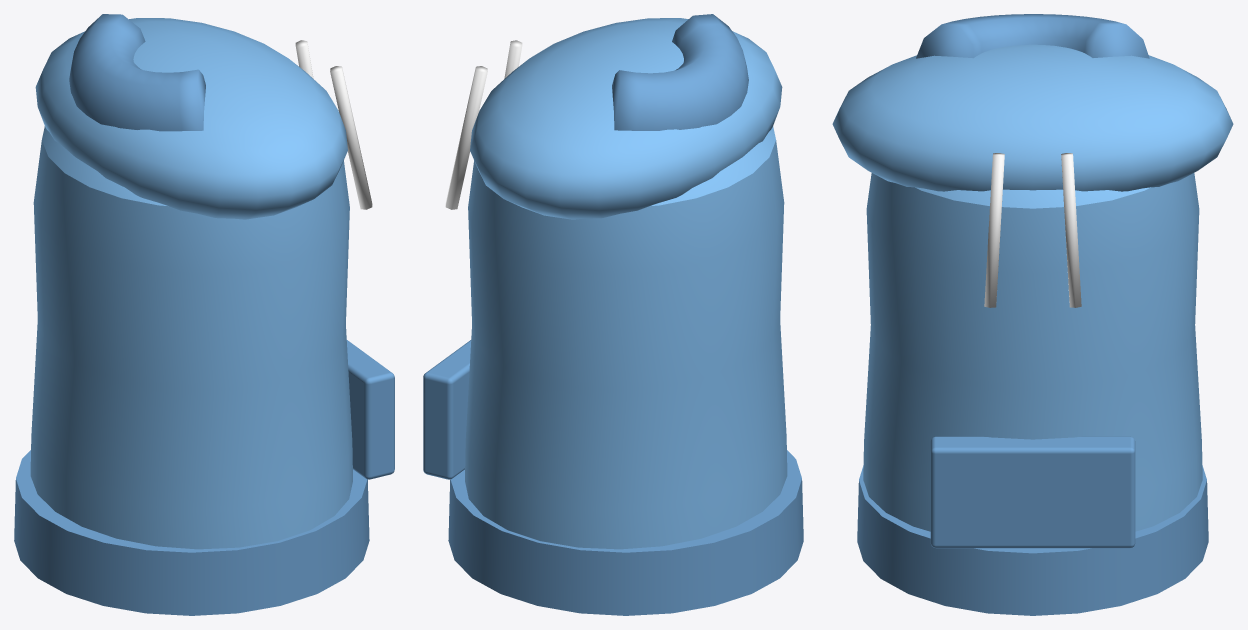
The model's file is sam_body.glb.
3 renders of one model, left to right at view 1: azimuth 30°, elevation 25°; view 2: azimuth 150°, elevation 25°; view 3: azimuth 270°, elevation 25°, orthographic.
Visible parts, largest first — view 1: sam_body; view 2: sam_body; view 3: sam_body.
Boxes of the visible parts, x1,y1,x2,y2 form: sam_body: [14, 14, 394, 615]; sam_body: [423, 14, 803, 615]; sam_body: [832, 14, 1233, 615].
Size of the model in its own units: 0.4188 by 0.6476 by 0.47.
